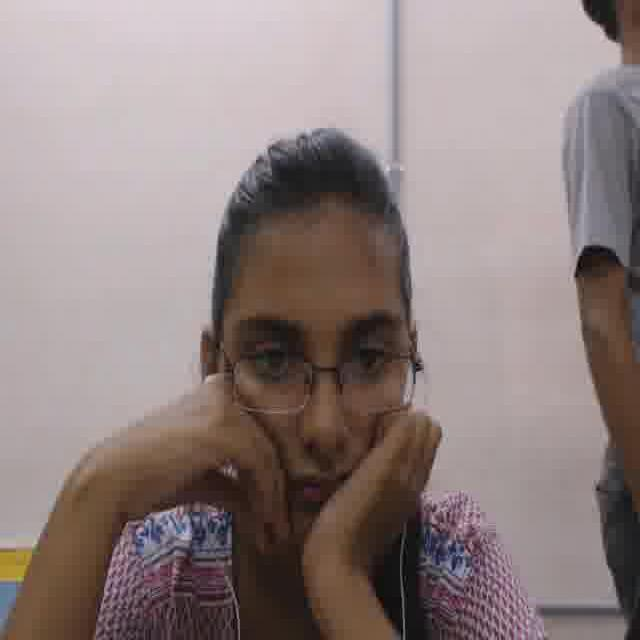Frustration: (216, 206, 407, 554)
